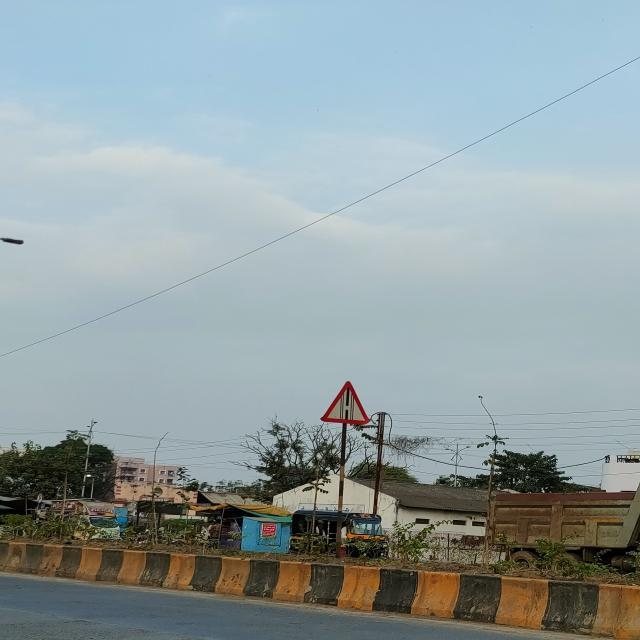ferry: (320, 379, 368, 425)
